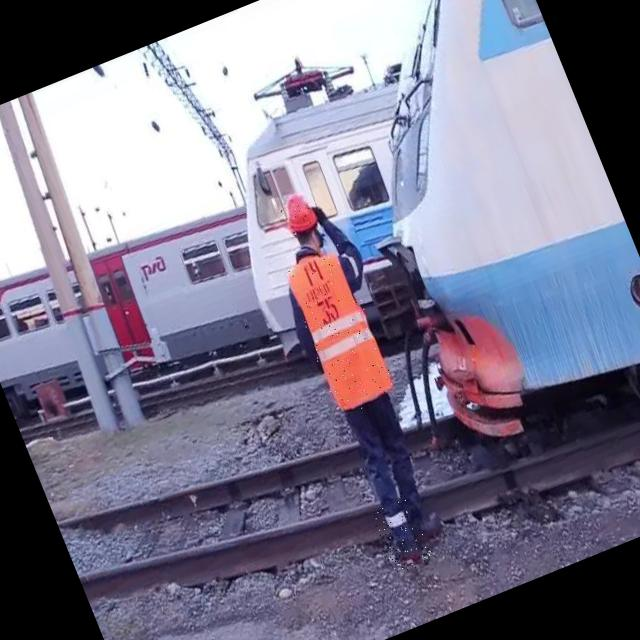hard_hat: (276, 190, 322, 238)
safety_vest: (279, 242, 400, 418)
work_boots: (371, 496, 435, 576)
